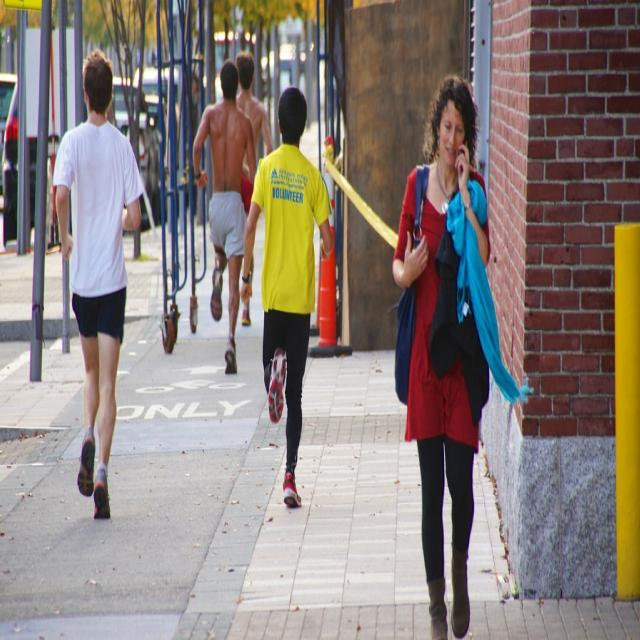body: (388, 73, 534, 639), (50, 46, 142, 524), (236, 82, 337, 513), (45, 59, 205, 236), (190, 57, 260, 379), (234, 48, 276, 327)
